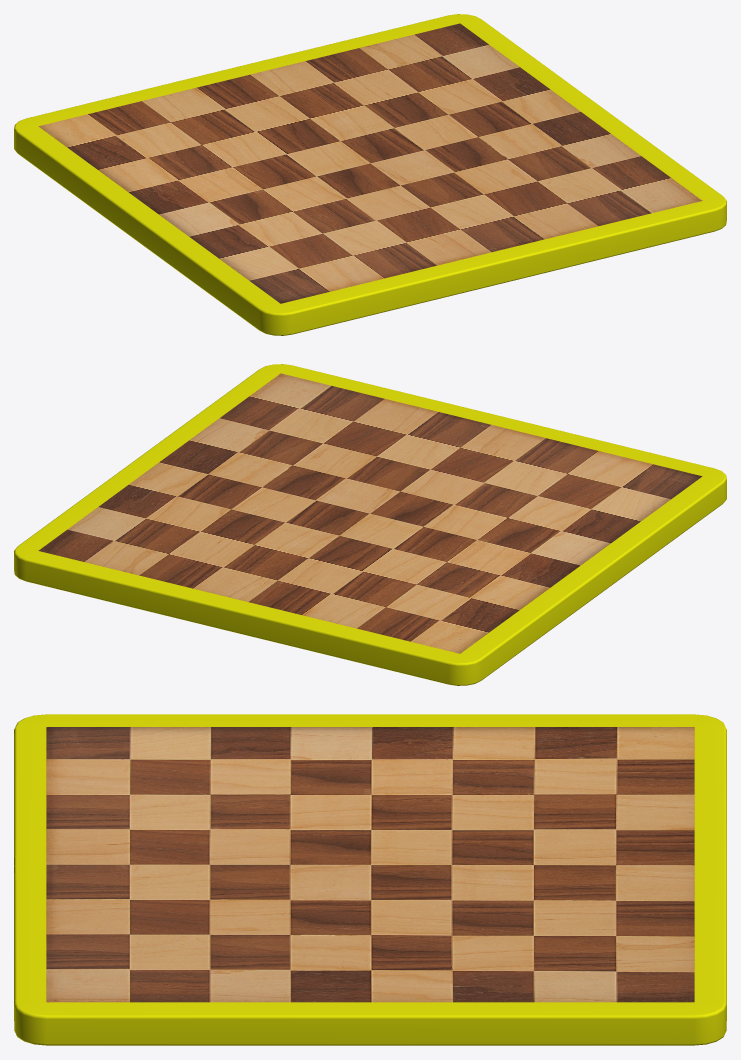
The model's file is checkers_grp.fbx.
3 renders of one model, top to bottom at view 1: azimuth 30°, elevation 25°; view 2: azimuth 150°, elevation 25°; view 3: azimuth 270°, elevation 25°, orthographic. The views are drawn at different scales.
Parts seen in each view (by area): view 1: checkers_board_1; view 2: checkers_board_1; view 3: checkers_board_1.
Boxes of the visible parts, x1,y1,x2,y2 form: checkers_board_1: (14,14,726,335); checkers_board_1: (14,364,726,685); checkers_board_1: (14,714,726,1045).
Size of the model in its own units: 48.64 by 2.29 by 48.36.
Materials: 3 (1 with a texture image).
